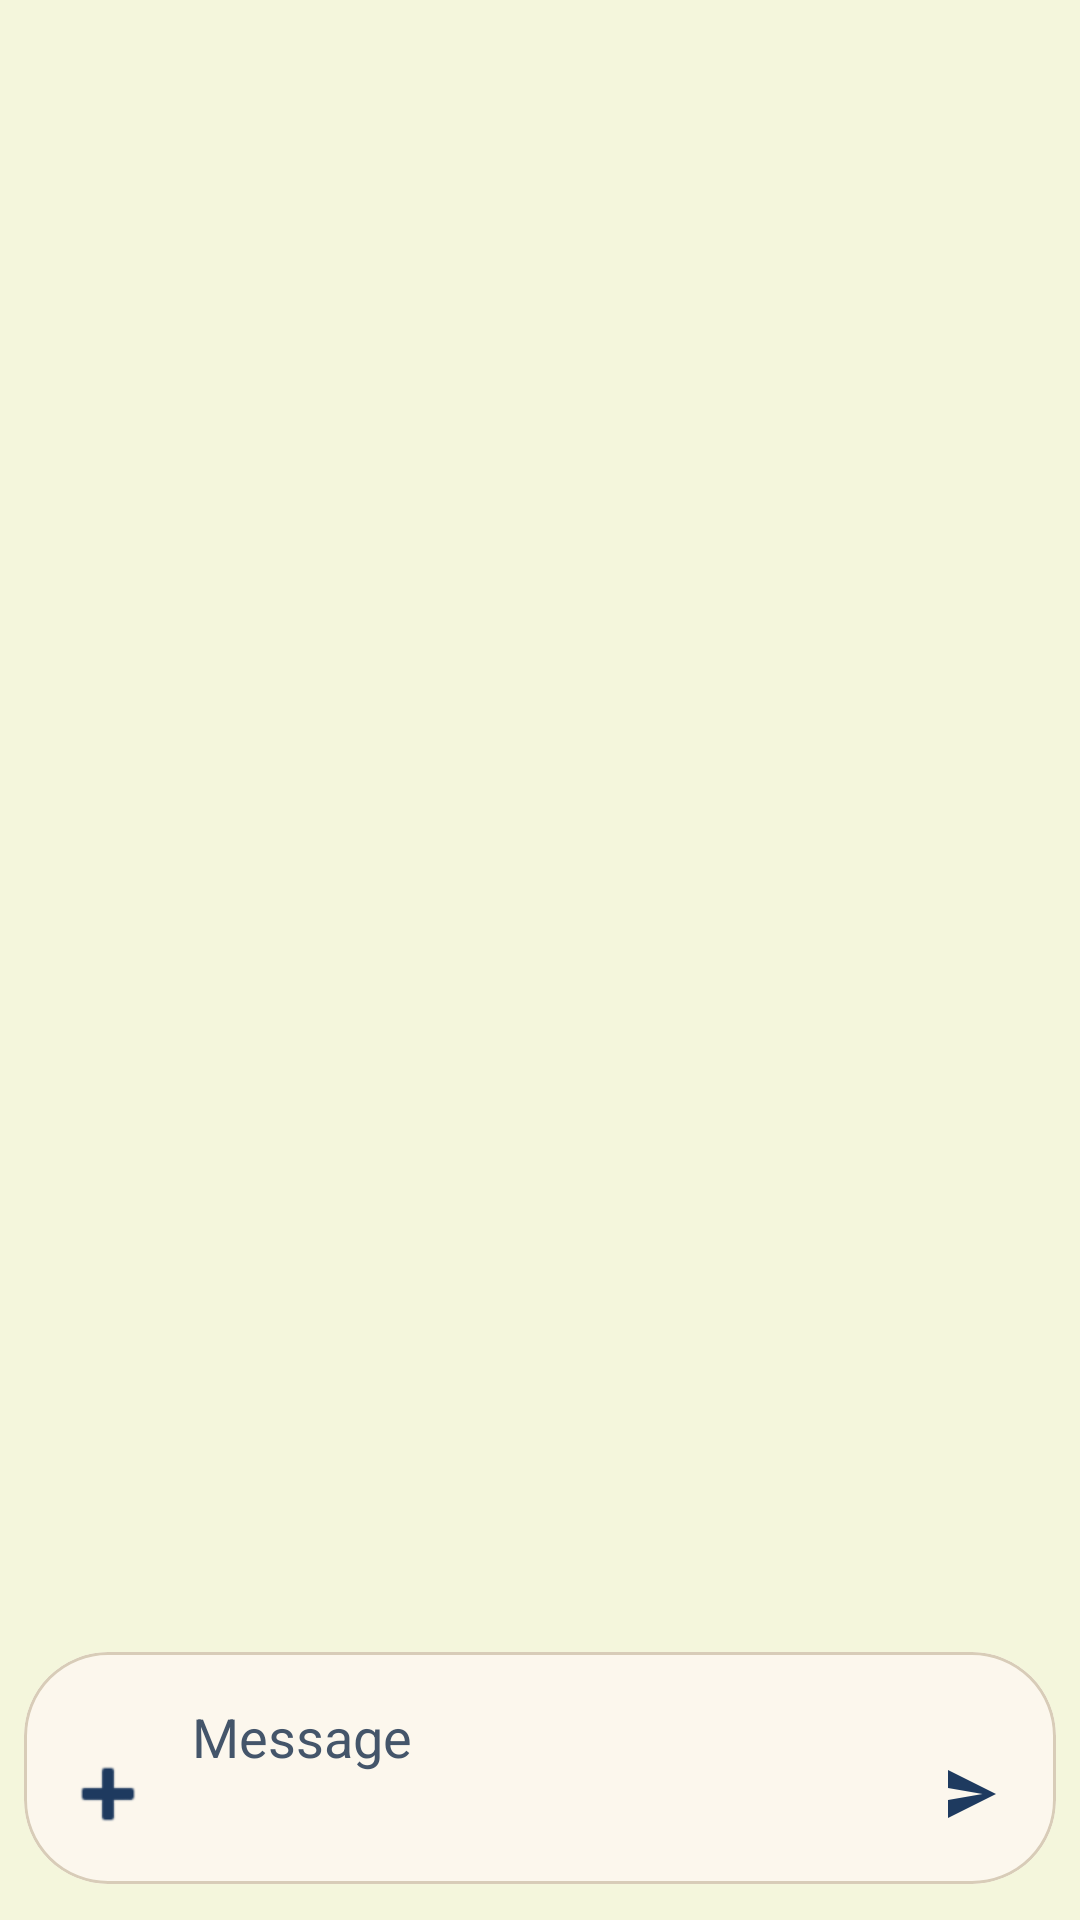

Where icons sit on this 1080w x 1920h app screen, as (x1, y1, x2, y2):
Add attachment: (81, 1767, 135, 1821)
